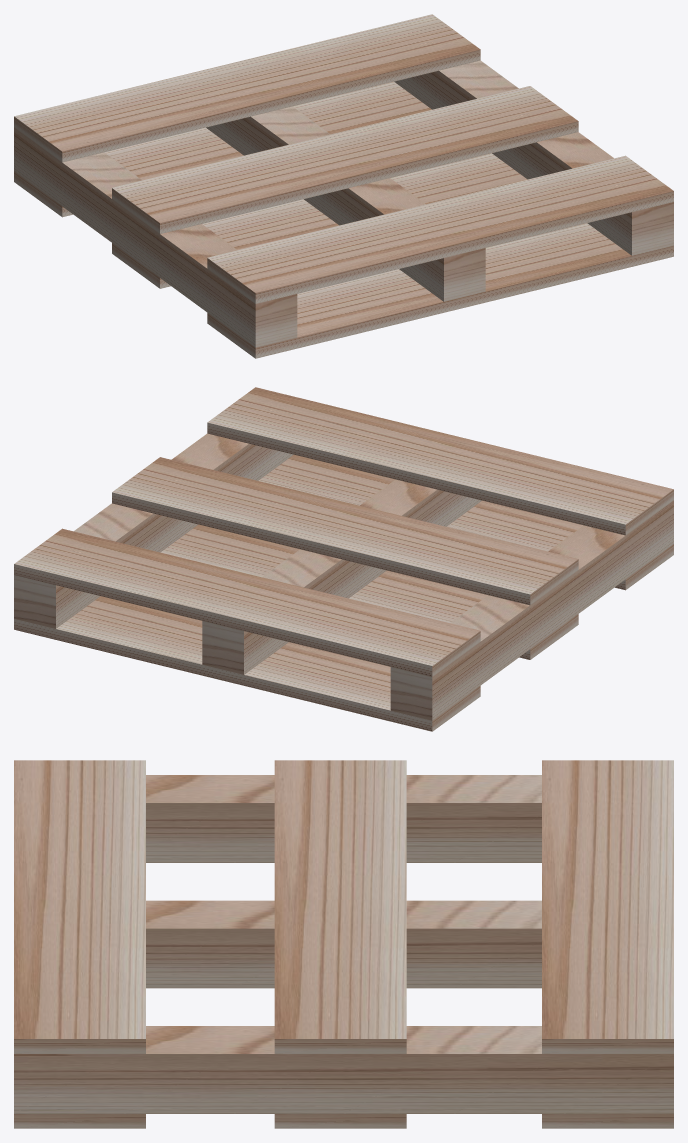
Rendered from wood.fbx.
3 renders of one model, top to bottom at view 1: azimuth 30°, elevation 25°; view 2: azimuth 150°, elevation 25°; view 3: azimuth 270°, elevation 25°, orthographic. The views are drawn at different scales.
Parts seen in each view (by area): view 1: pCube13; view 2: pCube13; view 3: pCube13.
Boxes of the visible parts, bbox=[...] form: pCube13: bbox=[14, 14, 673, 358]; pCube13: bbox=[14, 387, 673, 731]; pCube13: bbox=[14, 760, 673, 1128].
Size of the model in its own units: 1000 by 150 by 1000.
1 material, 1 textured.
